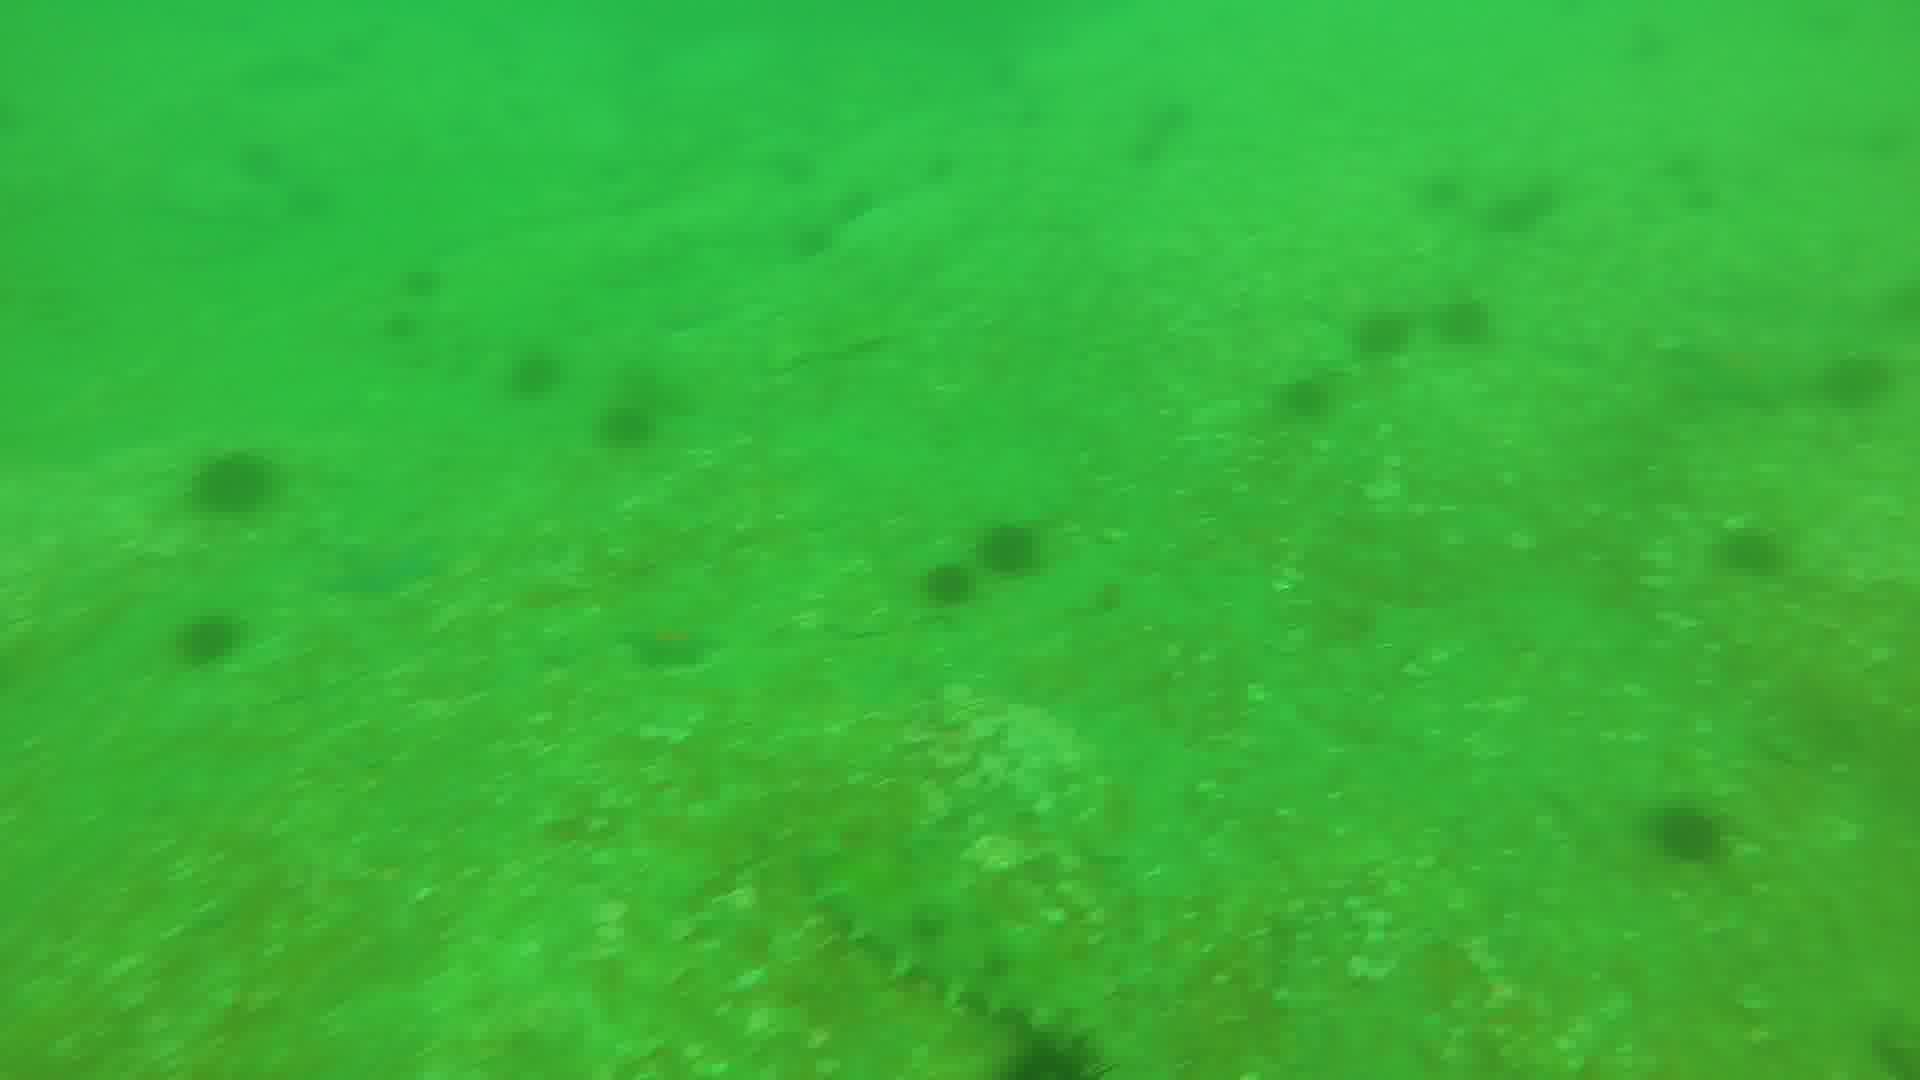echinus: (196, 452, 280, 521), (1658, 800, 1731, 874), (1824, 349, 1900, 407), (181, 613, 255, 671), (975, 524, 1047, 580), (1002, 1042, 1100, 1080), (1726, 520, 1785, 582), (599, 393, 657, 450), (1435, 298, 1501, 344), (1349, 316, 1416, 361), (1489, 185, 1549, 232), (923, 553, 972, 609), (1283, 371, 1335, 423), (512, 353, 568, 400)
holothurian: (807, 831, 1085, 1018)
starfish: (330, 527, 435, 596), (622, 620, 715, 674)
